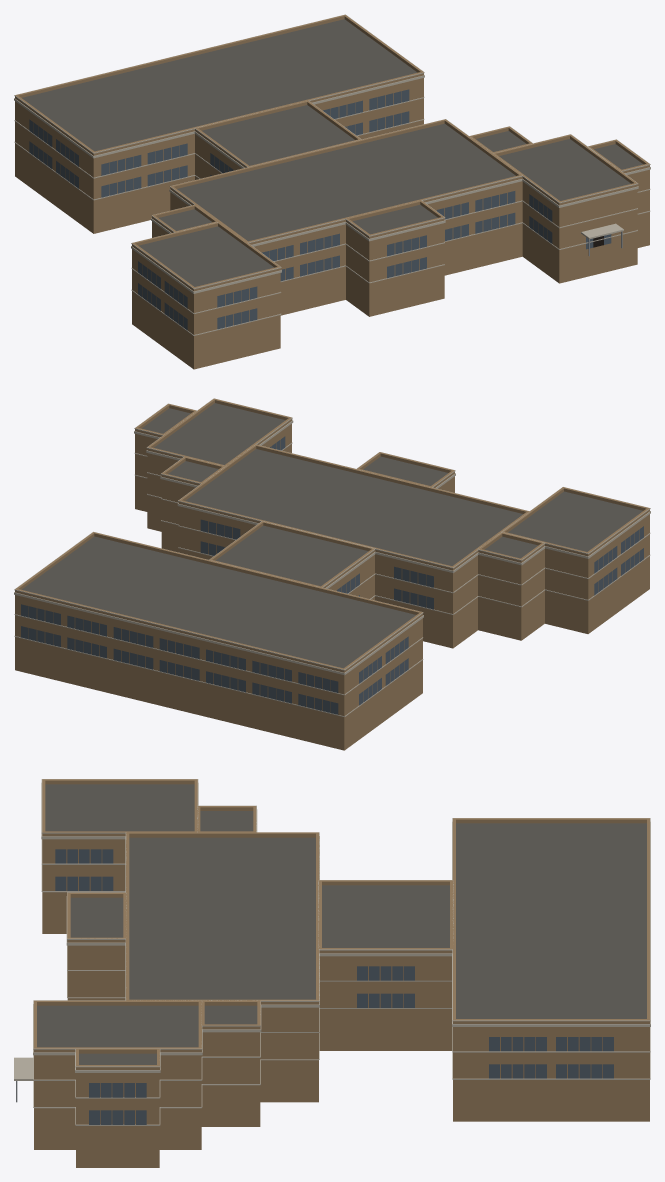
The model's file is western-hills-elementary.glb.
3 renders of one model, top to bottom at view 1: azimuth 30°, elevation 25°; view 2: azimuth 150°, elevation 25°; view 3: azimuth 270°, elevation 25°, orthographic. The views are drawn at different scales.
Parts seen in each view (by area): view 1: western_hills_elementary; view 2: western_hills_elementary; view 3: western_hills_elementary.
Part boxes in pixels (left/top/right/bottom): western_hills_elementary: left=14, top=14, right=650, bottom=369; western_hills_elementary: left=14, top=398, right=650, bottom=750; western_hills_elementary: left=14, top=779, right=650, bottom=1167.
Bounding box in the file's own units: 81.24 × 13.38 × 76.02.
